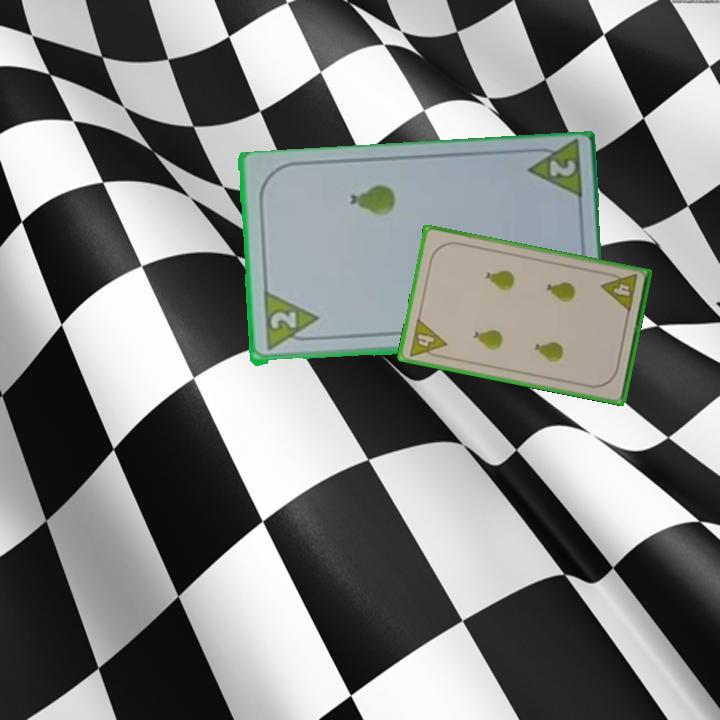2p: (266, 308, 299, 334), (545, 156, 578, 181)
4p: (405, 315, 449, 362), (598, 269, 640, 315)
